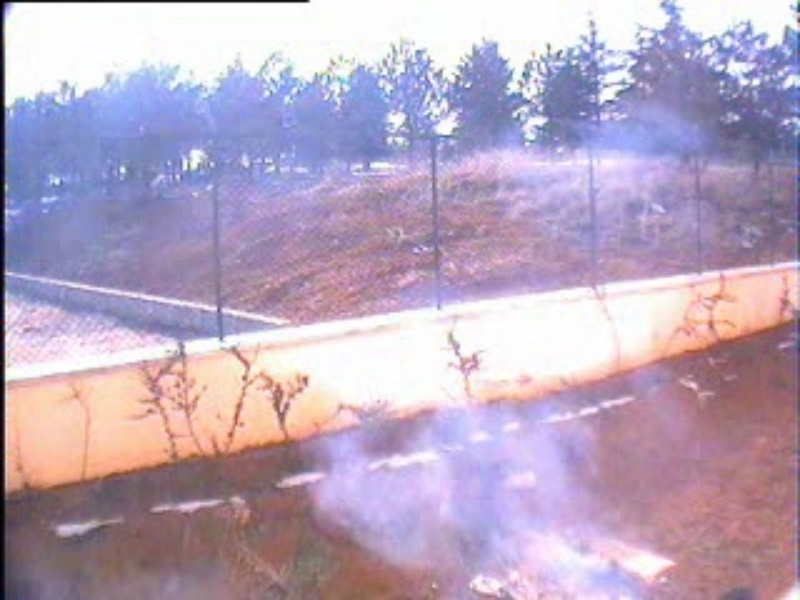smoke: (329, 401, 611, 599)
